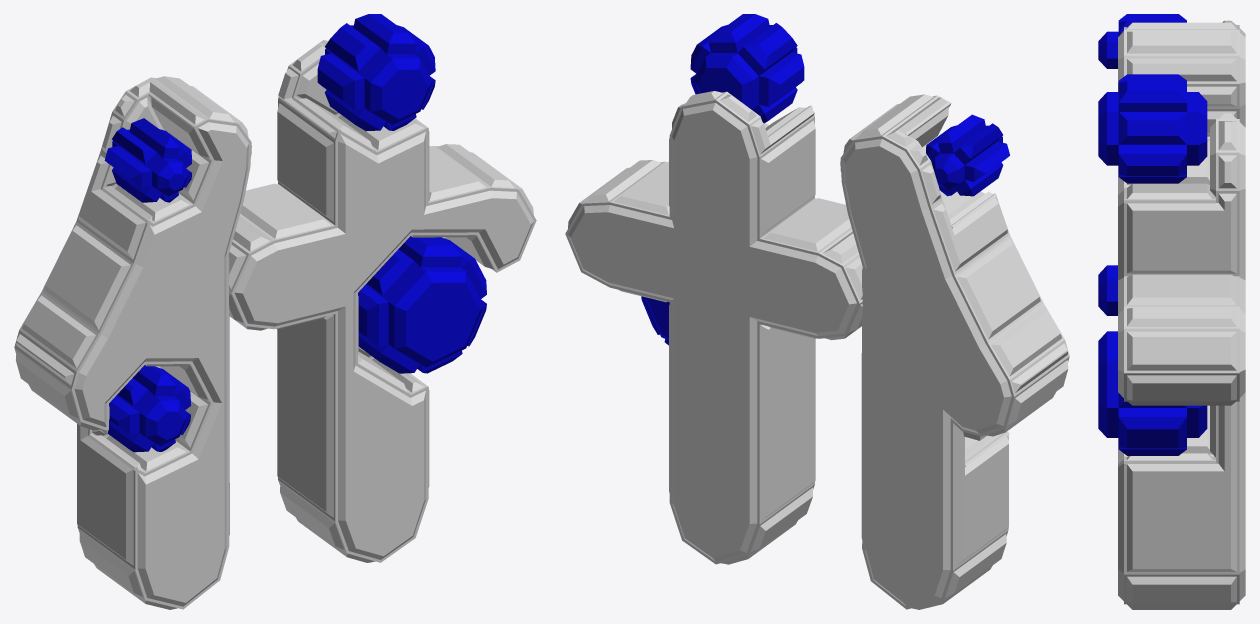
The model's file is Ch_China_什_01.fbx.
3 views of the same model, side by side, from view 1: azimuth 30°, elevation 25°; view 2: azimuth 150°, elevation 25°; view 3: azimuth 270°, elevation 25° (orthographic). The views are drawn at different scales.
Parts seen in each view (by area): view 1: sphere1; view 2: sphere1; view 3: sphere1.
Boxes of the visible parts, x1,y1,x2,y2 form: sphere1: [14, 14, 536, 609]; sphere1: [565, 14, 1069, 609]; sphere1: [1098, 14, 1245, 609].
Bounding box in the file's own units: 0.9423 × 1.01 × 0.2541.
